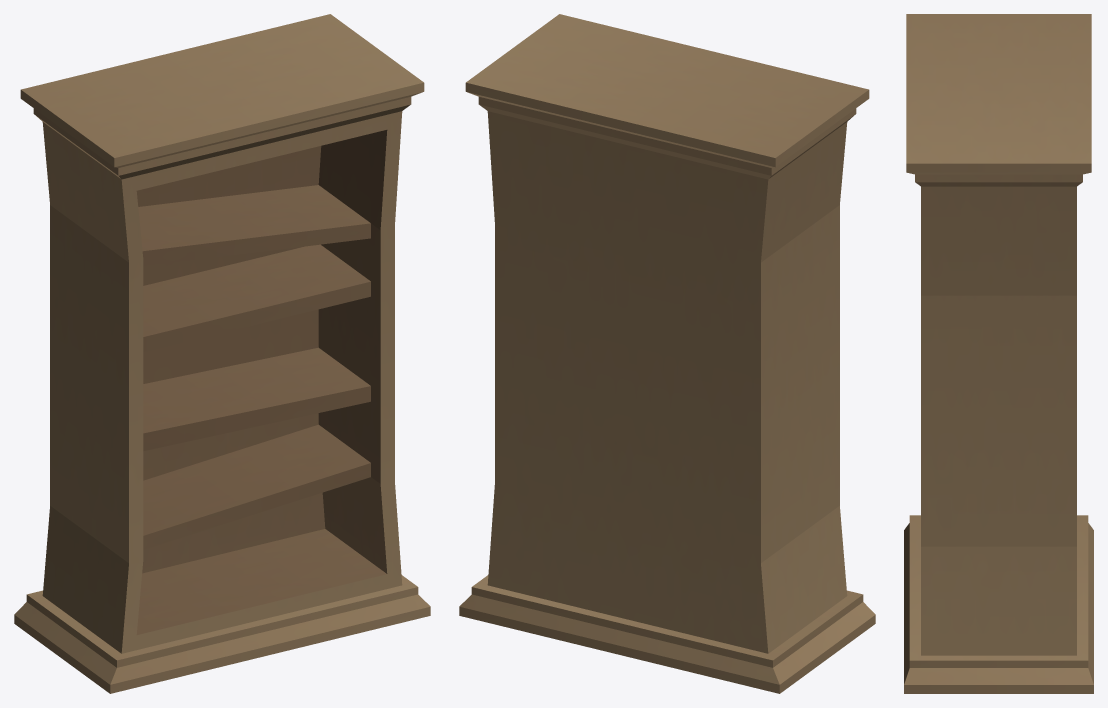
The model's file is bookshelf_1b.glb.
3 views of the same model, side by side, from view 1: azimuth 30°, elevation 25°; view 2: azimuth 150°, elevation 25°; view 3: azimuth 270°, elevation 25° (orthographic).
Visible parts, largest first — view 1: bookshelf_1b; view 2: bookshelf_1b; view 3: bookshelf_1b.
Boxes of the visible parts, <box> form: bookshelf_1b: <box>14,14,430,693</box>; bookshelf_1b: <box>459,14,875,693</box>; bookshelf_1b: <box>904,14,1093,693</box>.
Size of the model in its own units: 1.1 by 1.75 by 0.5691.
1 material, 1 textured.
